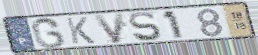1: (162, 9, 185, 40)
8: (196, 7, 225, 38)
G: (30, 16, 68, 49)
K: (64, 16, 97, 45)
S: (127, 11, 164, 43)
V: (92, 12, 126, 45)
